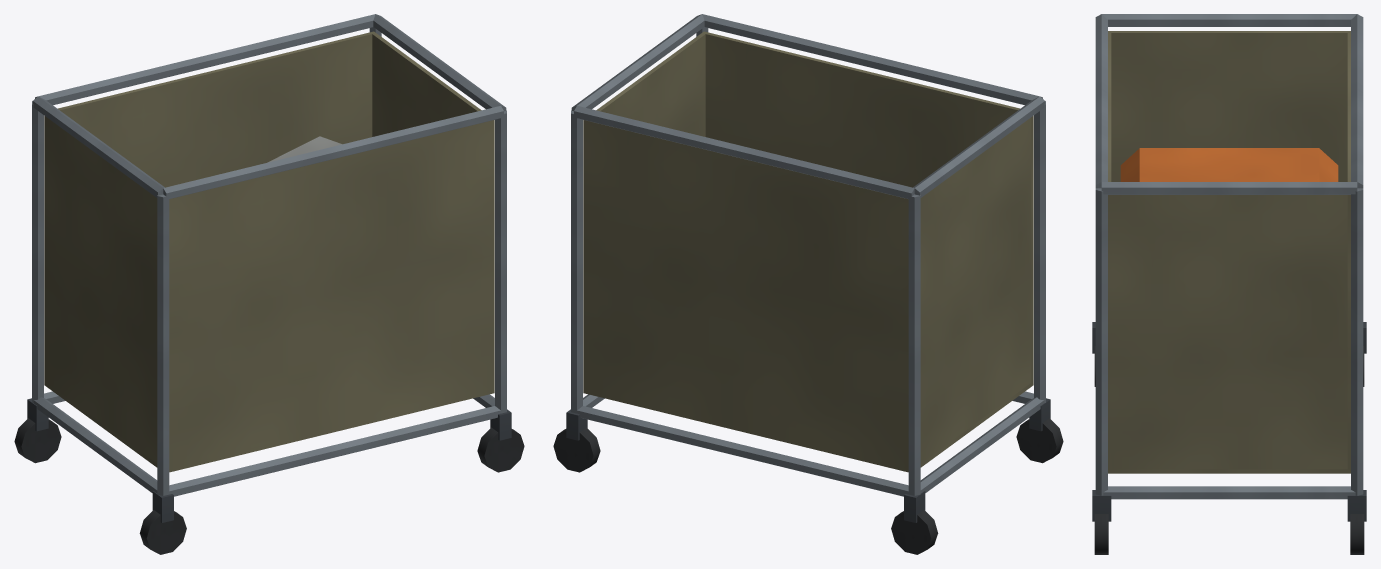
File: laundry_cart.fbx
The picture shows the model from 3 angles, left to right: view 1: azimuth 30°, elevation 25°; view 2: azimuth 150°, elevation 25°; view 3: azimuth 270°, elevation 25°; orthographic projection.
Visible parts, largest first — view 1: laundry_cart; view 2: laundry_cart; view 3: laundry_cart.
Part boxes in pixels (x1,y1,x2,y2): laundry_cart: [14, 14, 524, 554]; laundry_cart: [553, 14, 1063, 554]; laundry_cart: [1092, 14, 1366, 554].
Bounding box in the file's own units: 0.94 × 0.8626 × 0.58.
Materials: 1 (1 with a texture image).
